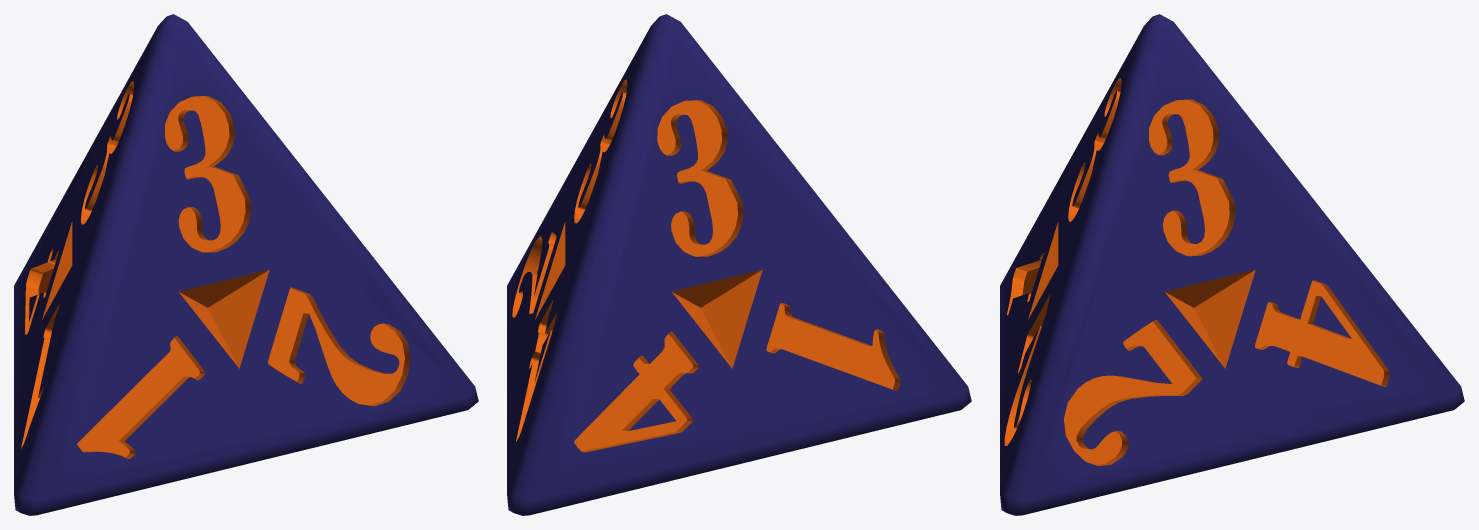
Rendered from dice4a.glb.
The picture shows the model from 3 angles, left to right: view 1: azimuth 30°, elevation 25°; view 2: azimuth 150°, elevation 25°; view 3: azimuth 270°, elevation 25°; orthographic projection.
Parts seen in each view (by area): view 1: A, B; view 2: A, B; view 3: A, B.
Part boxes in pixels (x1,y1,x2,y2): A: (14,14,478,515); B: (21,81,410,458); A: (507,14,971,515); B: (512,79,900,452); A: (1000,14,1464,515); B: (1004,78,1389,466).
Bounding box in the file's own units: 9.49 × 7.85 × 8.34.
